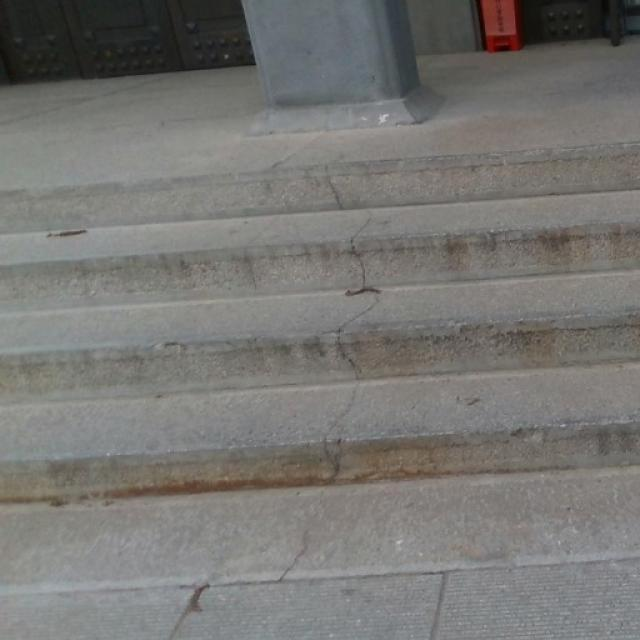Stairs: (0, 137, 639, 638)
